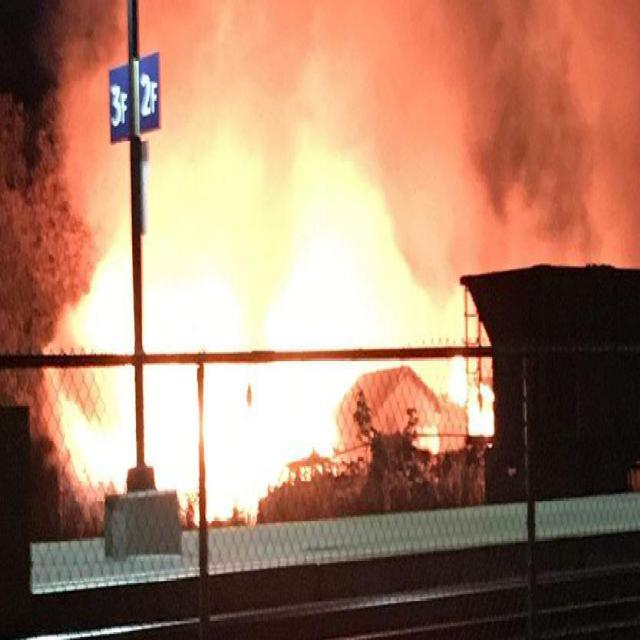Fire: (42, 223, 510, 502)
